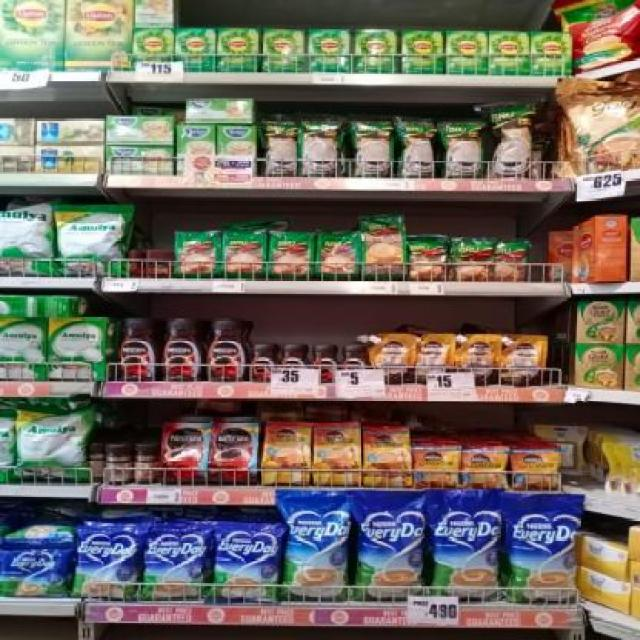Coffee: (160, 422, 209, 486), (313, 423, 361, 486), (262, 422, 309, 484), (209, 423, 257, 482), (364, 428, 411, 488), (158, 320, 202, 382), (202, 320, 247, 380), (116, 319, 158, 381), (412, 445, 460, 489), (510, 449, 558, 488), (462, 447, 504, 487), (248, 345, 280, 380), (309, 345, 340, 381)
